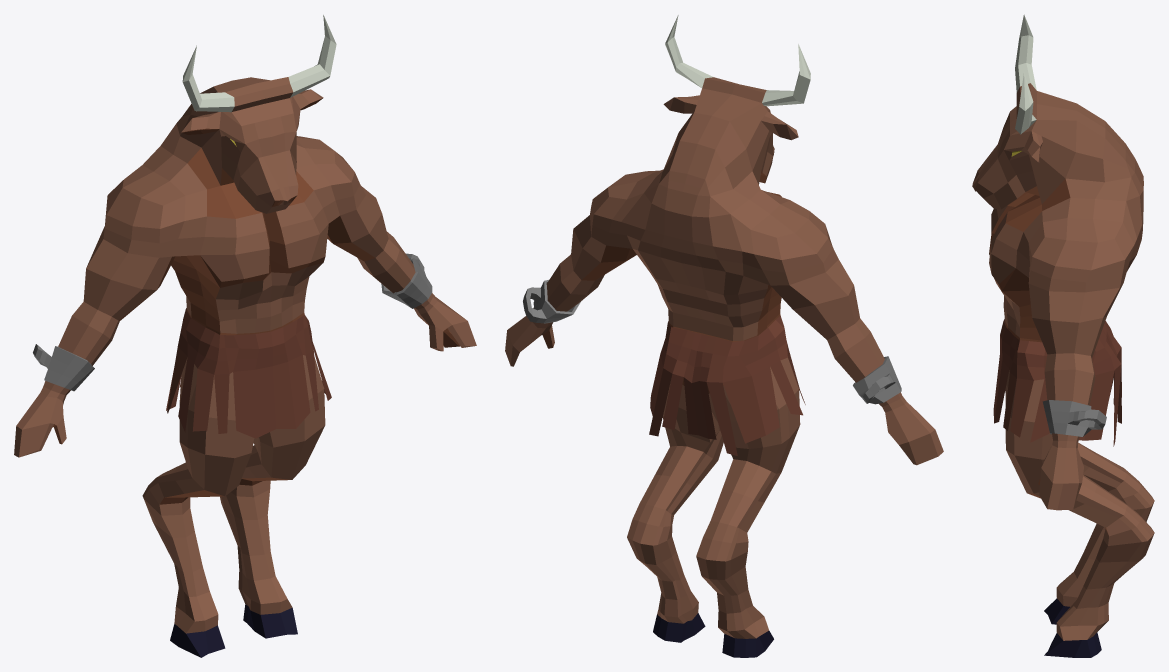
The model's file is Minotauros.fbx.
The picture shows the model from 3 angles, left to right: view 1: azimuth 30°, elevation 25°; view 2: azimuth 150°, elevation 25°; view 3: azimuth 270°, elevation 25°; orthographic projection. The views are drawn at different scales.
Visible parts, largest first — view 1: body, skirt, handcuffs; view 2: body, skirt, handcuffs; view 3: body, skirt, handcuffs.
Boxes of the visible parts, left/top/right/bottom form: body: left=14, top=15, right=476, bottom=657; skirt: left=166, top=308, right=331, bottom=438; handcuffs: left=33, top=253, right=432, bottom=391; body: left=505, top=15, right=943, bottom=657; skirt: left=649, top=316, right=805, bottom=455; handcuffs: left=523, top=280, right=901, bottom=404; body: left=972, top=14, right=1154, bottom=657; skirt: left=993, top=319, right=1121, bottom=446; handcuffs: left=1042, top=400, right=1106, bottom=436.
Size of the model in its own units: 510 by 666 by 186.
